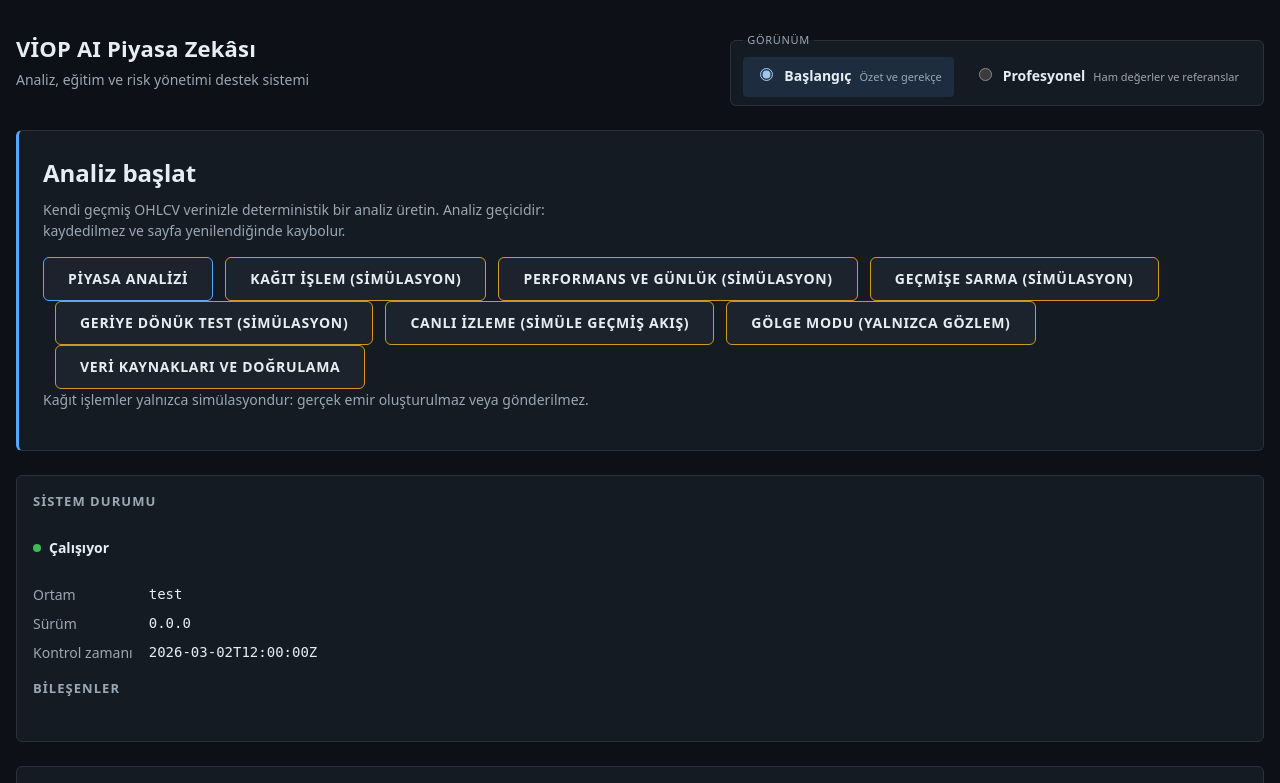
Scenario: the analyse flow reaches a real workspace › warns before submission that a typed symbol is not verified metadata
Click the button "PİYASA ANALİZİ".
click(128, 278)  # box [43,256,213,300]
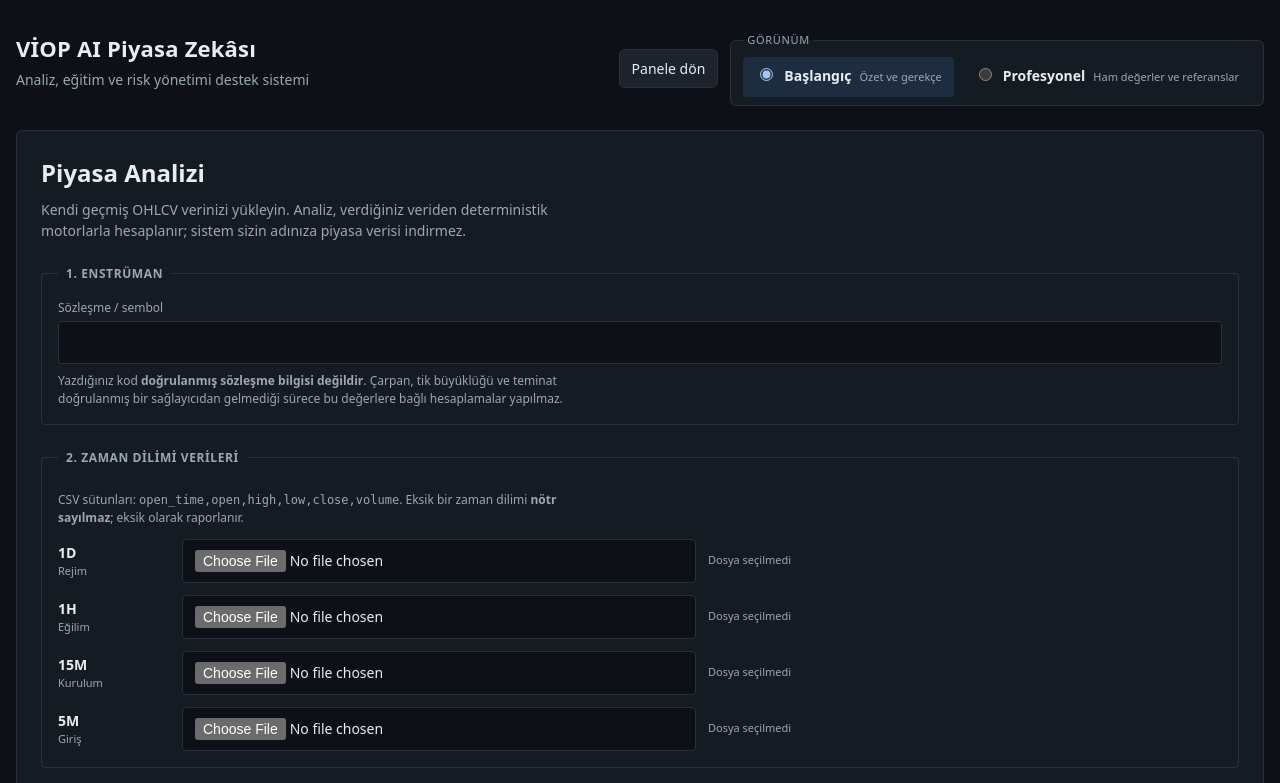
Result: the text "doğrulanmış sözleşme bilgisi değildir" is shown at [141,372,363,388]
